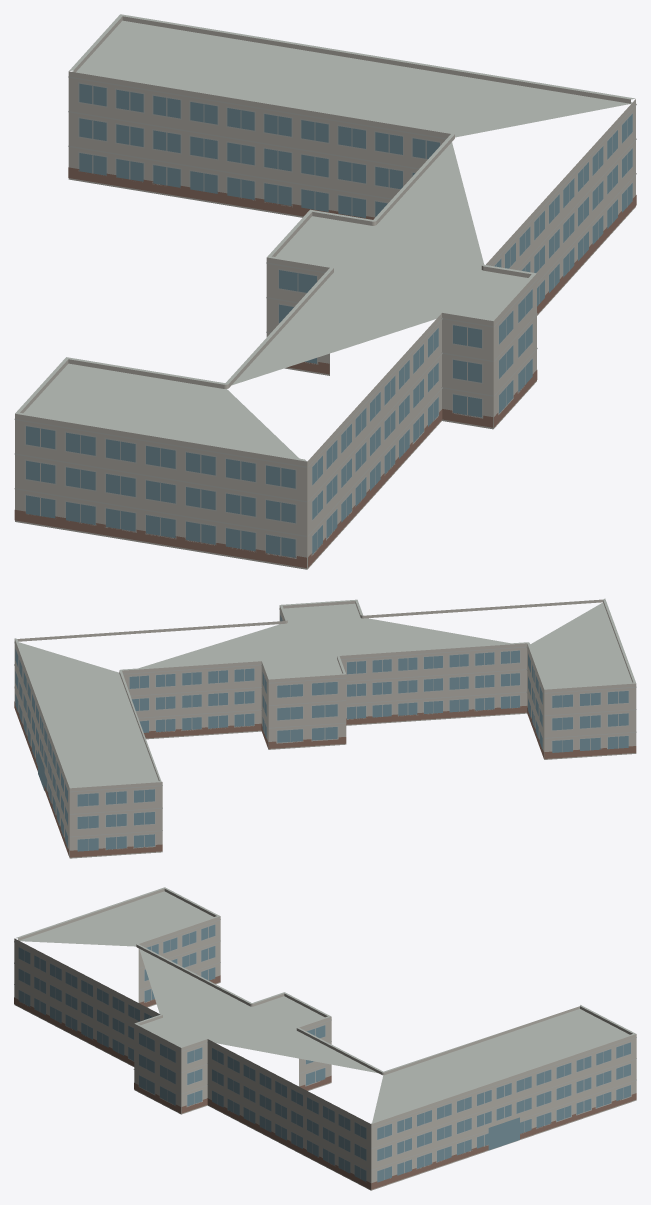
The model's file is public-c7e1fcd7-9aab-4dcd-8d16-2409b4d9b8cd.glb.
3 views of the same model, one above another, from view 1: azimuth 30°, elevation 25°; view 2: azimuth 150°, elevation 25°; view 3: azimuth 270°, elevation 25° (orthographic). The views are drawn at different scales.
Parts seen in each view (by area): view 1: public-c7e1fcd7-9aab-4dcd-8d16-2409b4d9b8cd; view 2: public-c7e1fcd7-9aab-4dcd-8d16-2409b4d9b8cd; view 3: public-c7e1fcd7-9aab-4dcd-8d16-2409b4d9b8cd.
Part boxes in pixels (x1,y1,x2,y2): public-c7e1fcd7-9aab-4dcd-8d16-2409b4d9b8cd: (14, 14, 636, 569); public-c7e1fcd7-9aab-4dcd-8d16-2409b4d9b8cd: (14, 598, 636, 858); public-c7e1fcd7-9aab-4dcd-8d16-2409b4d9b8cd: (14, 887, 636, 1190).
Bounding box in the file's own units: 69.92 × 9.15 × 77.55.
